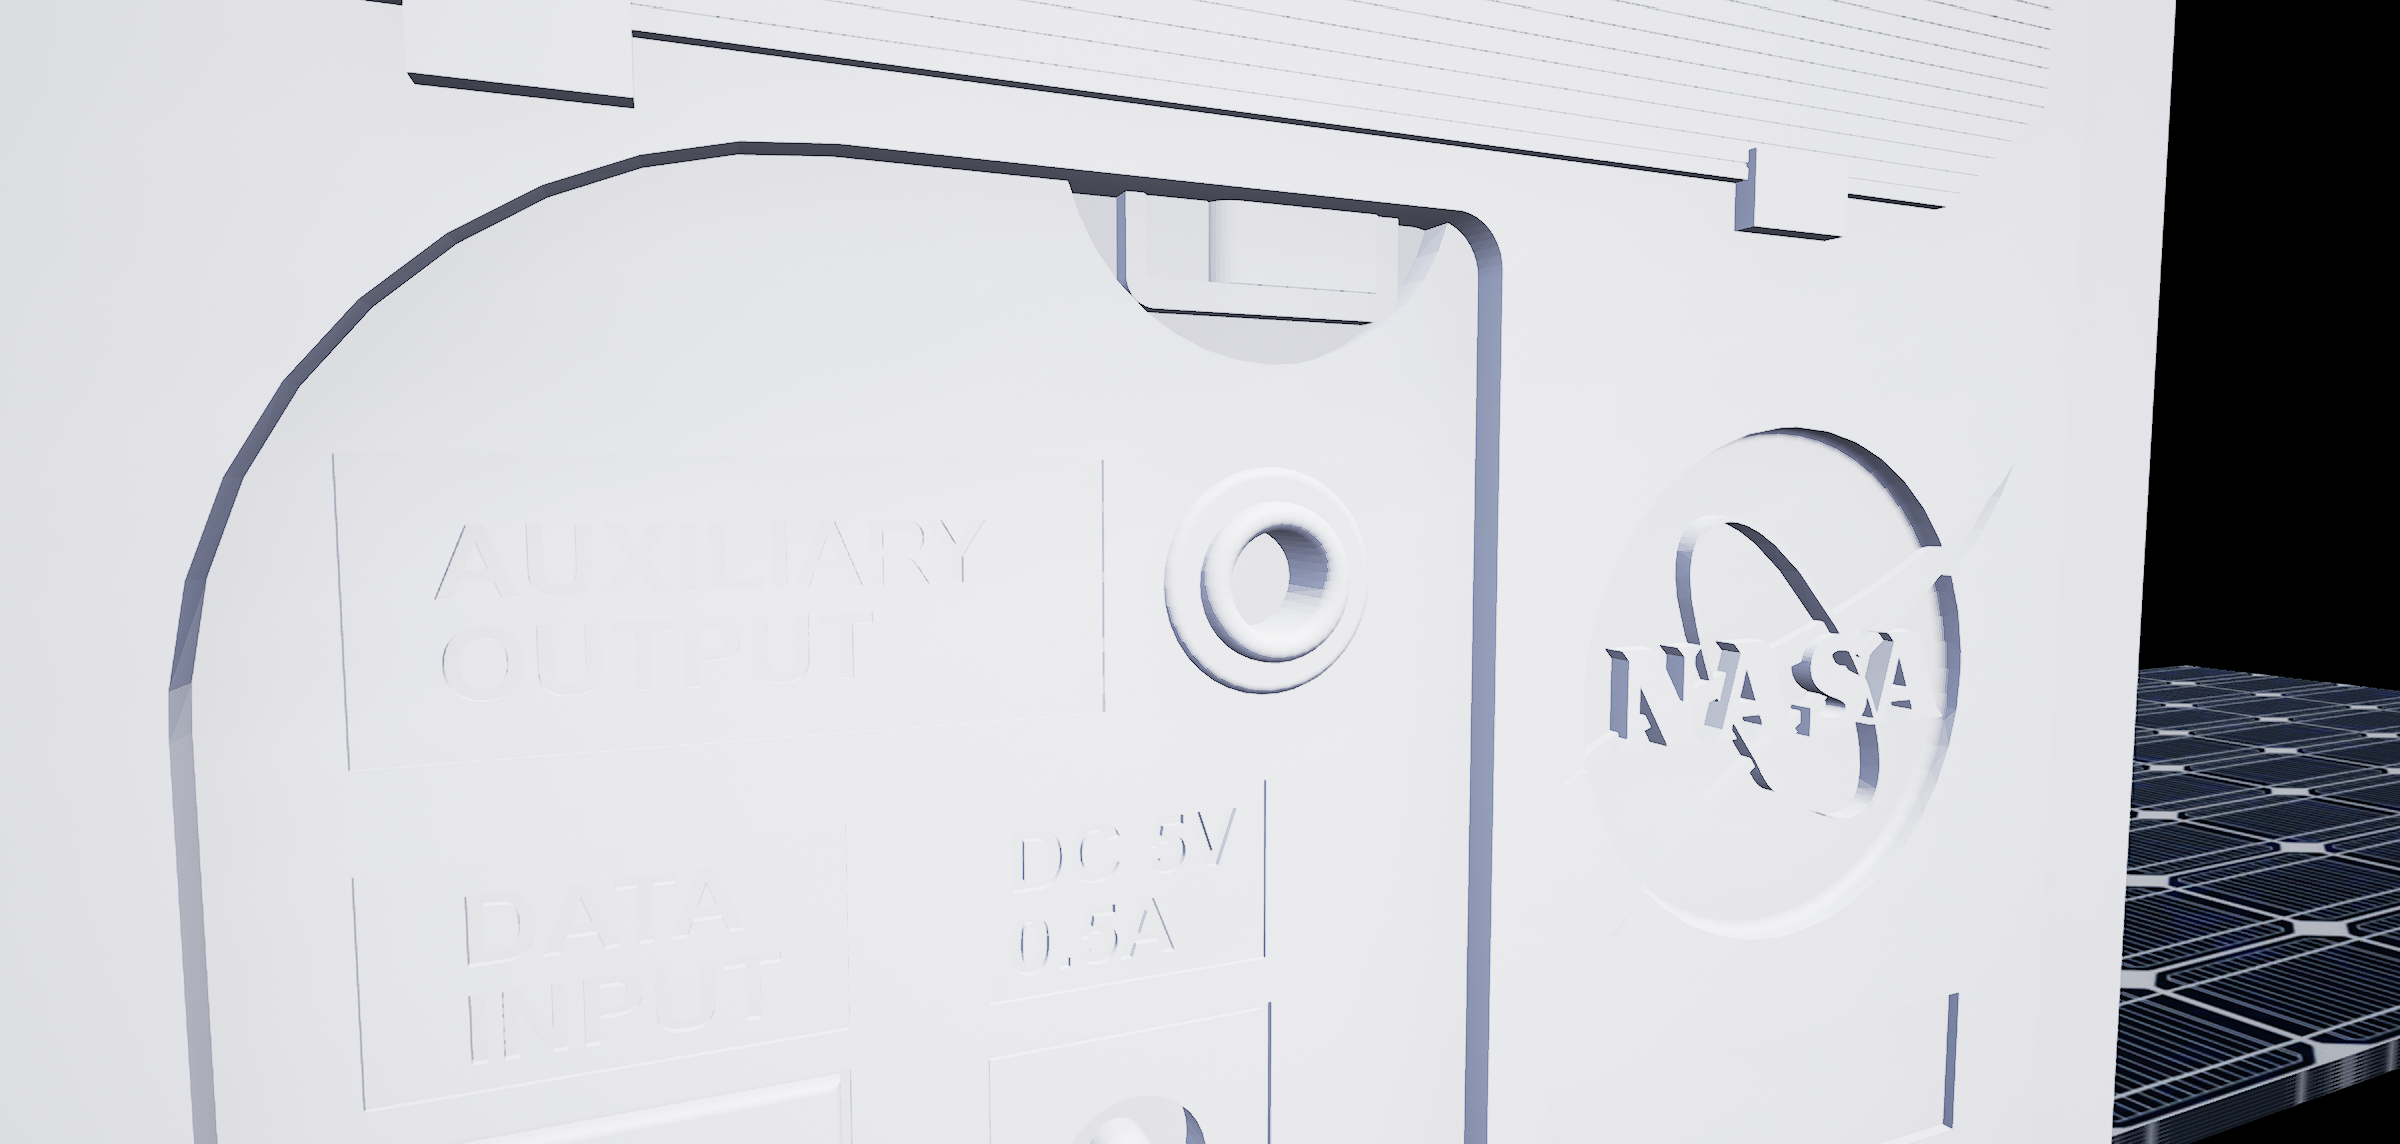aux: (1157, 464, 1378, 706)
dc: (1038, 1087, 1217, 1144)
